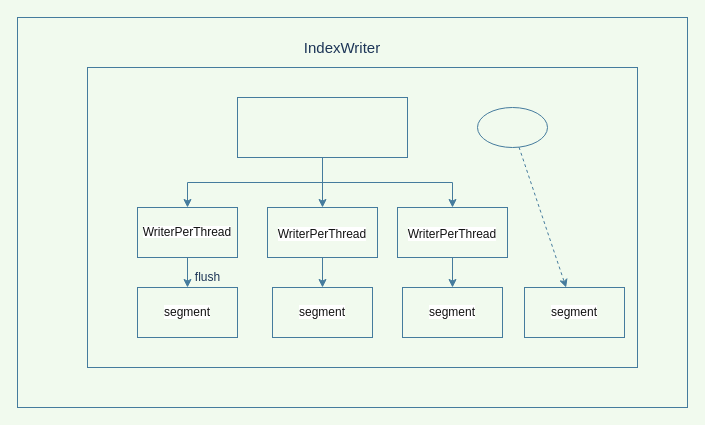
This 705x425 diagram has some shape labels left out. The box of each missing label's shape, as (x1, y1, x2, y2) in pixels:
DocumentsWriter: (236, 96, 408, 158)
merge任务: (476, 106, 548, 148)
